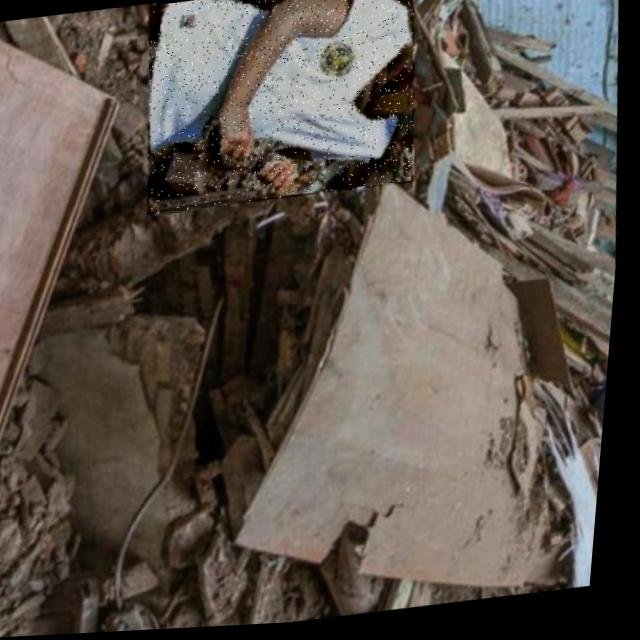Person in Rubble: (135, 0, 428, 216)
